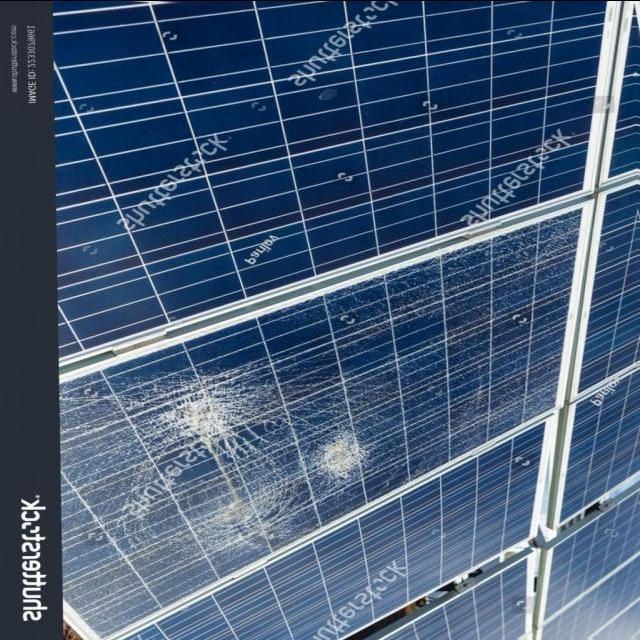cracked: (62, 202, 590, 627)
